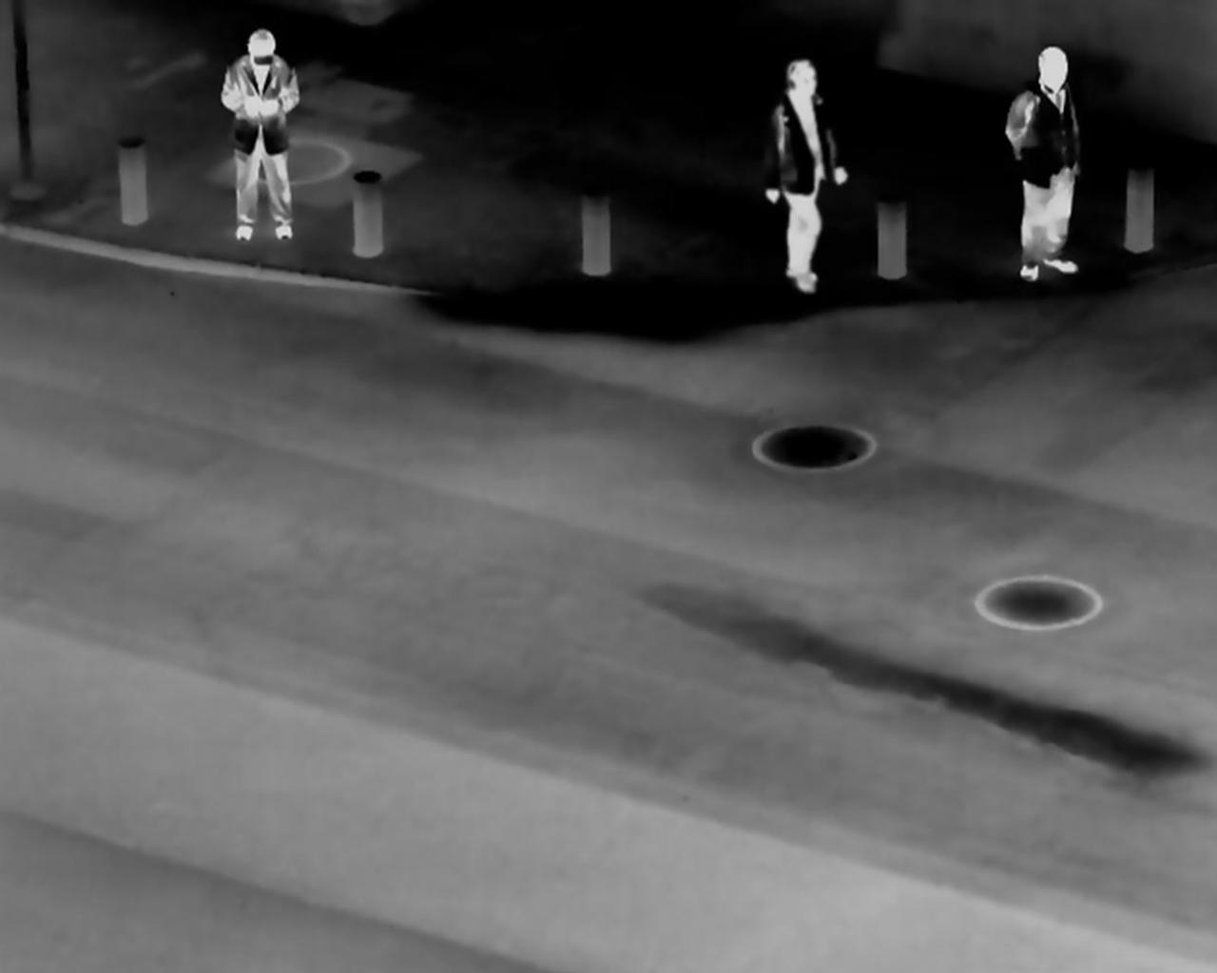person: (753, 58, 853, 297), (998, 38, 1092, 290), (206, 29, 312, 239)
